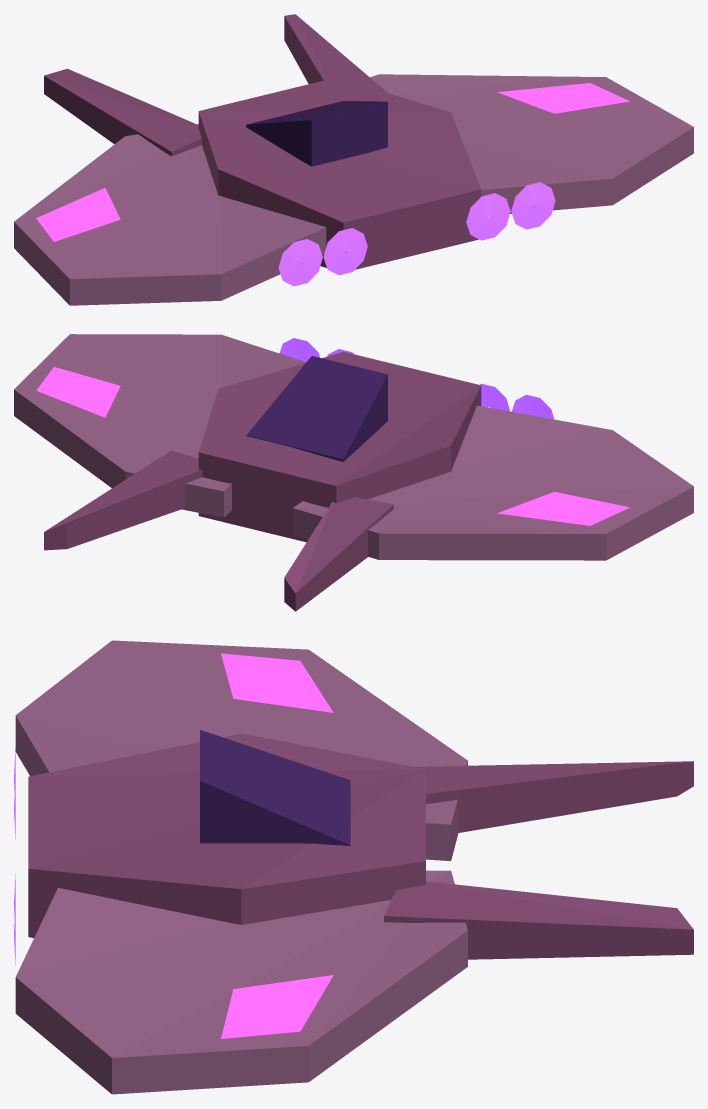
The model's file is nebula3-Bqj5p7h5.glb.
3 views of the same model, one above another, from view 1: azimuth 30°, elevation 25°; view 2: azimuth 150°, elevation 25°; view 3: azimuth 270°, elevation 25° (orthographic). The views are drawn at different scales.
Visible parts, largest first — view 1: Phantom boss; view 2: Phantom boss; view 3: Phantom boss.
Part boxes in pixels (left/top/right/bottom): Phantom boss: left=14, top=14, right=693, bottom=305; Phantom boss: left=14, top=334, right=693, bottom=611; Phantom boss: left=14, top=640, right=693, bottom=1094.
Size of the model in its own units: 11.8 by 1.99 by 8.12.
